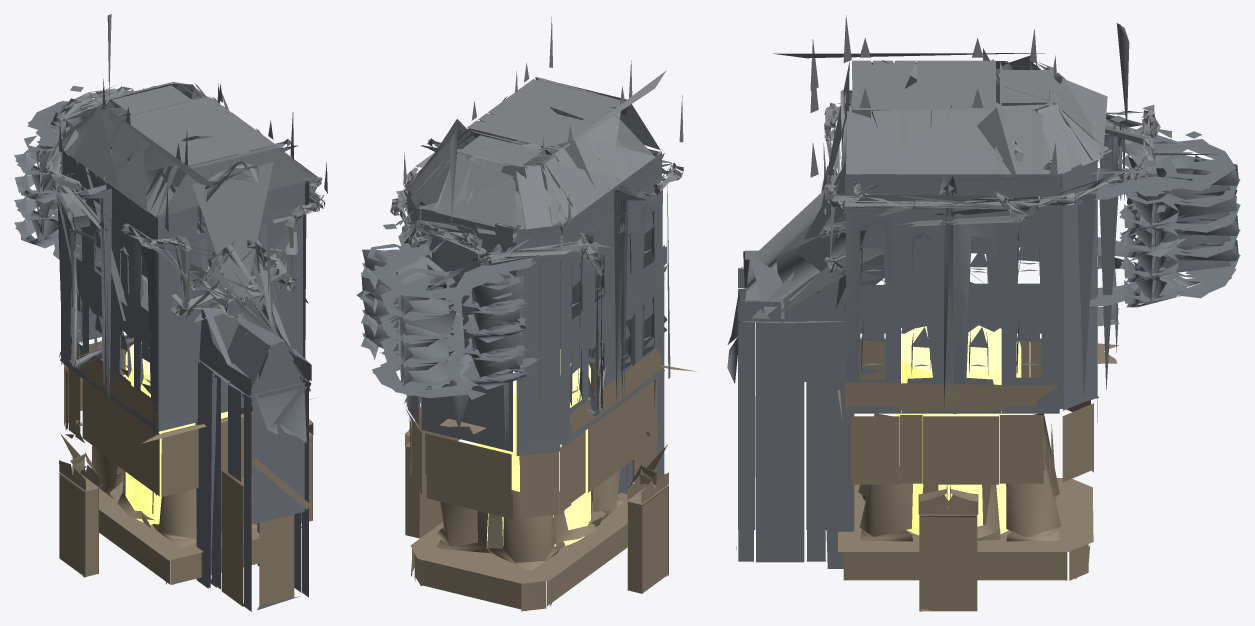
Rendered from workshop.glb.
The picture shows the model from 3 angles, left to right: view 1: azimuth 30°, elevation 25°; view 2: azimuth 150°, elevation 25°; view 3: azimuth 270°, elevation 25°; orthographic projection. The views are drawn at different scales.
Visible parts, largest first — view 1: workshop_Building; view 2: workshop_Building; view 3: workshop_Building.
Part boxes in pixels (x1=…): workshop_Building: x1=14, y1=14, x2=327, y2=611; workshop_Building: x1=356, y1=16, x2=696, y2=611; workshop_Building: x1=727, y1=15, x2=1240, y2=611.
Bounding box in the file's own units: 8.53 × 16.68 × 14.63.
